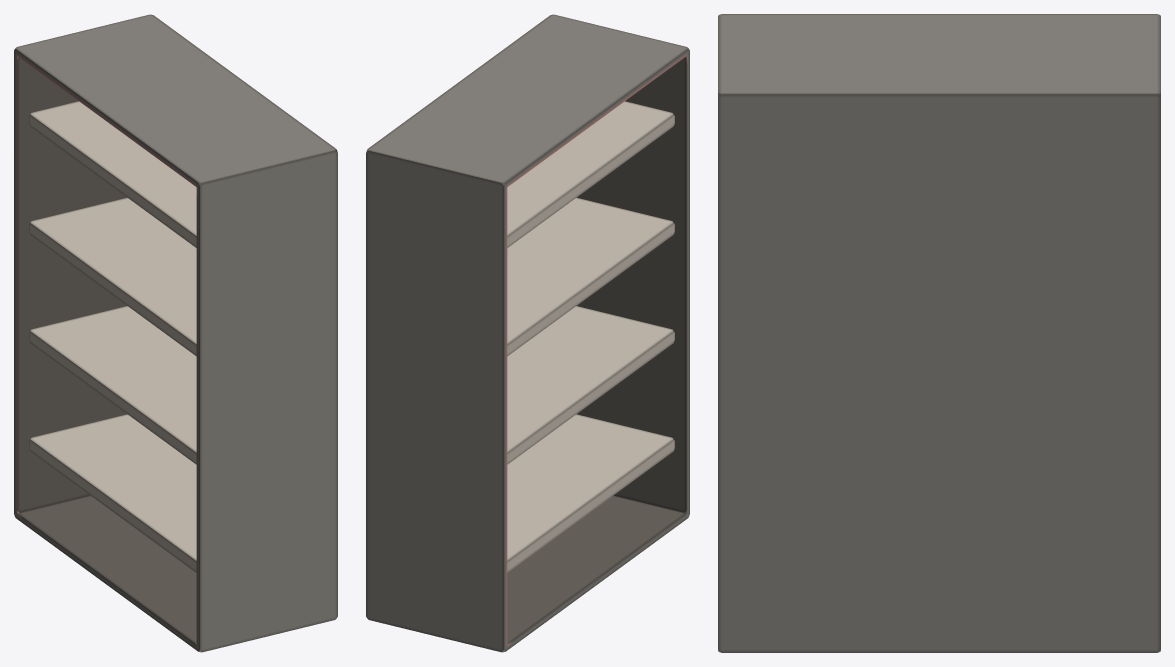
3 renders of one model, left to right at view 1: azimuth 30°, elevation 25°; view 2: azimuth 150°, elevation 25°; view 3: azimuth 270°, elevation 25°, orthographic. The views are drawn at different scales.
Parts seen in each view (by area): view 1: cuboid, cuboid_2, cuboid_3, cuboid_1, cuboid_4; view 2: cuboid, cuboid_2, cuboid_3, cuboid_1, cuboid_4; view 3: cuboid.
Boxes of the visible parts, bbox=[...] form: cuboid: bbox=[14, 14, 337, 652]; cuboid_2: bbox=[29, 306, 196, 464]; cuboid_3: bbox=[29, 197, 196, 356]; cuboid_1: bbox=[29, 414, 196, 572]; cuboid_4: bbox=[29, 101, 196, 247]; cuboid: bbox=[366, 14, 689, 652]; cuboid_2: bbox=[507, 306, 674, 464]; cuboid_3: bbox=[507, 197, 674, 356]; cuboid_1: bbox=[507, 414, 674, 572]; cuboid_4: bbox=[507, 101, 674, 247]; cuboid: bbox=[718, 14, 1160, 652].
Size of the model in its own units: 150 by 488 by 350.
Materials: 1 (1 with a texture image).
